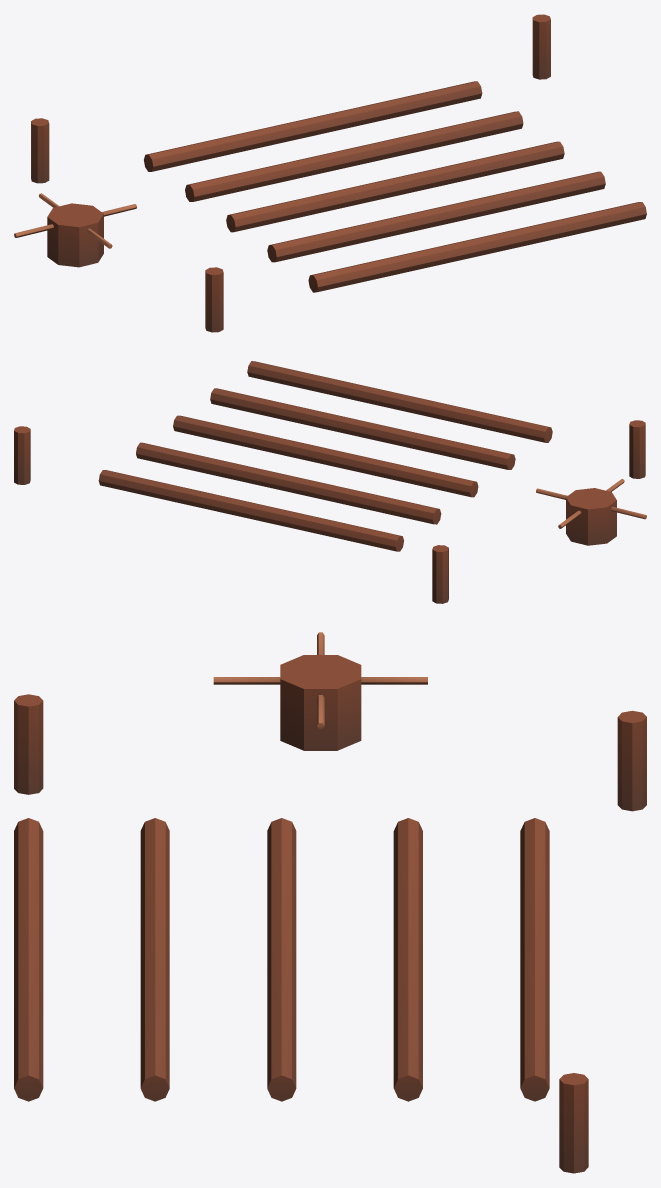
Rendered from pirate-cove-headland.glb.
3 renders of one model, top to bottom at view 1: azimuth 30°, elevation 25°; view 2: azimuth 150°, elevation 25°; view 3: azimuth 270°, elevation 25°, orthographic. The views are drawn at different scales.
Visible parts, largest first — view 1: headland; view 2: headland; view 3: headland.
Boxes of the visible parts, left/top/right/bottom form: headland: left=14, top=14, right=646, bottom=332; headland: left=14, top=361, right=646, bottom=603; headland: left=14, top=632, right=646, bottom=1173.
Bounding box in the file's own units: 11.25 × 1 × 6.5.
